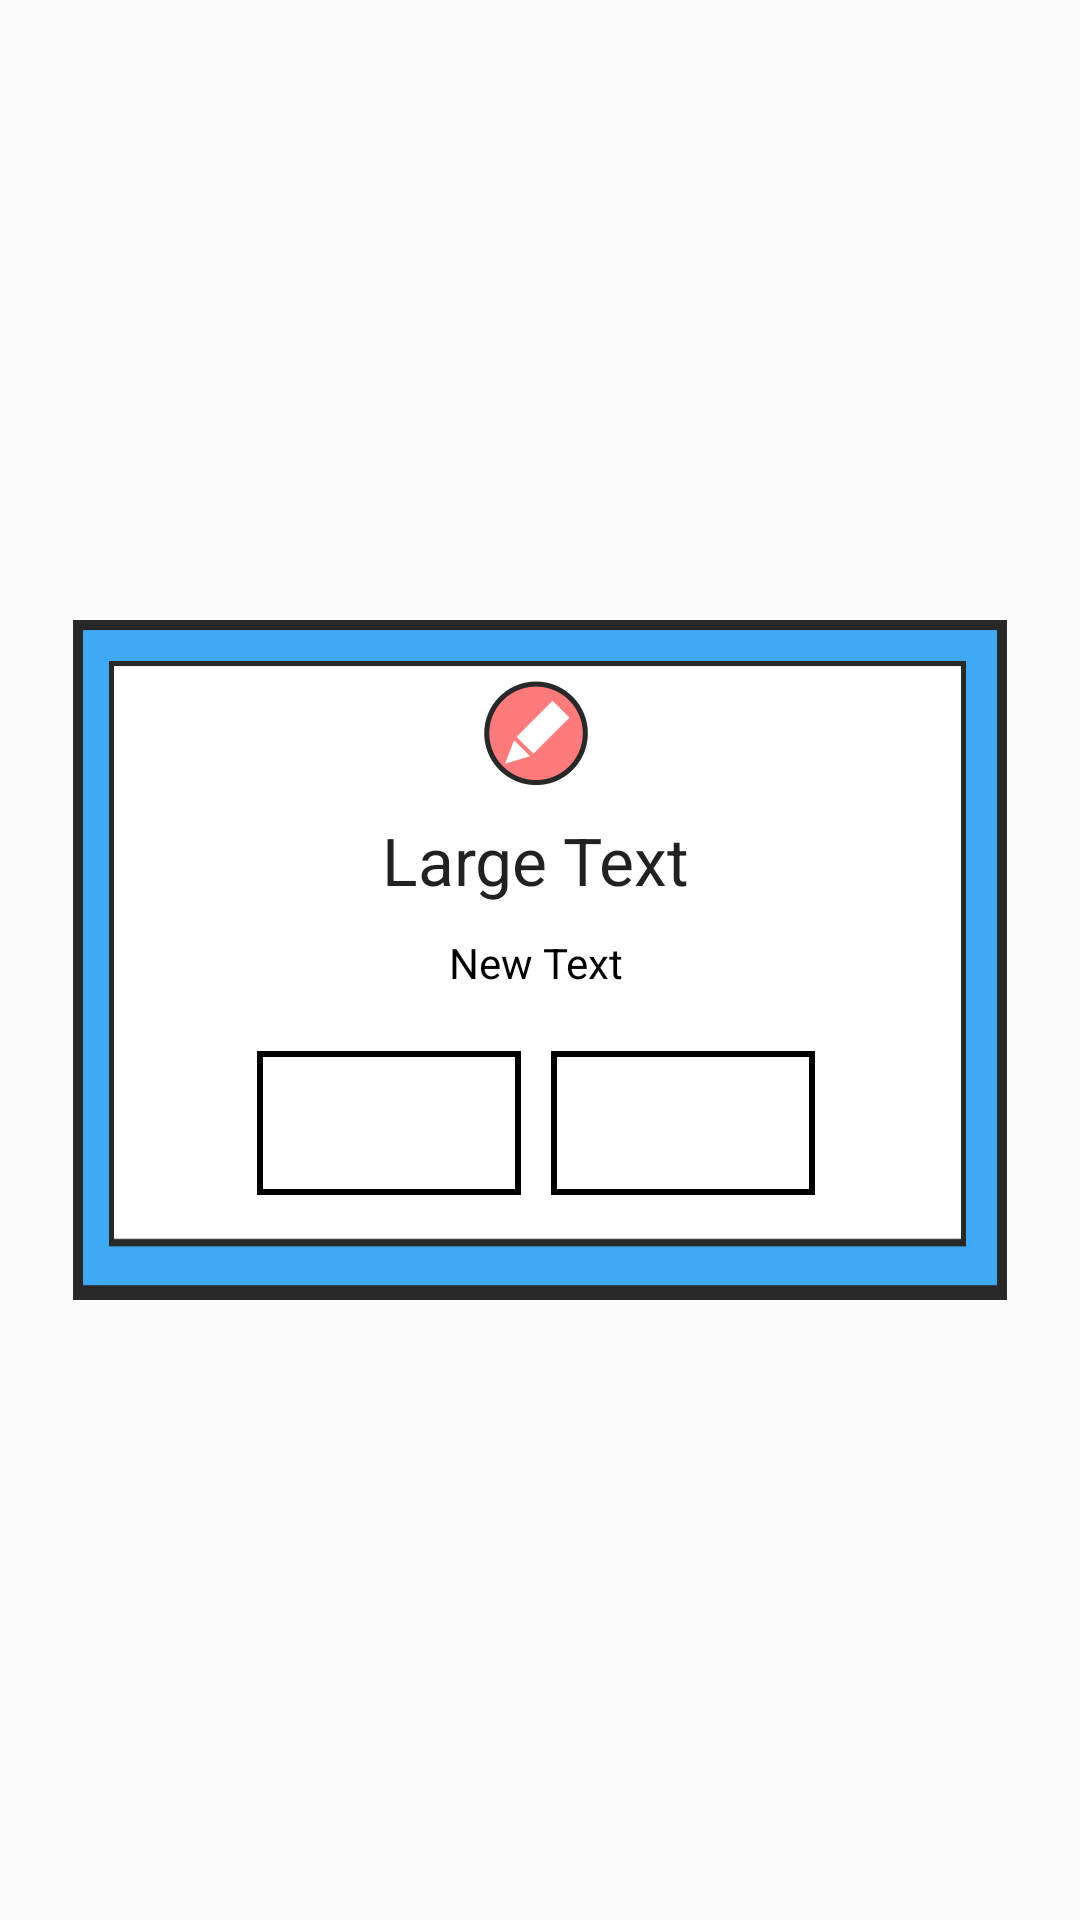

Locate icon controls on the screen. Image size 1080 × 1920, boxes as (x1=x1, y1=y1, x2=x2, y2=y2).
write: (x1=484, y1=681, x2=588, y2=785)
